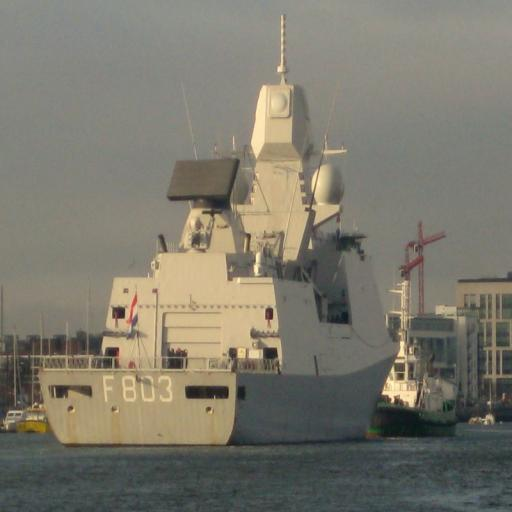Fragata: (35, 2, 416, 451)
